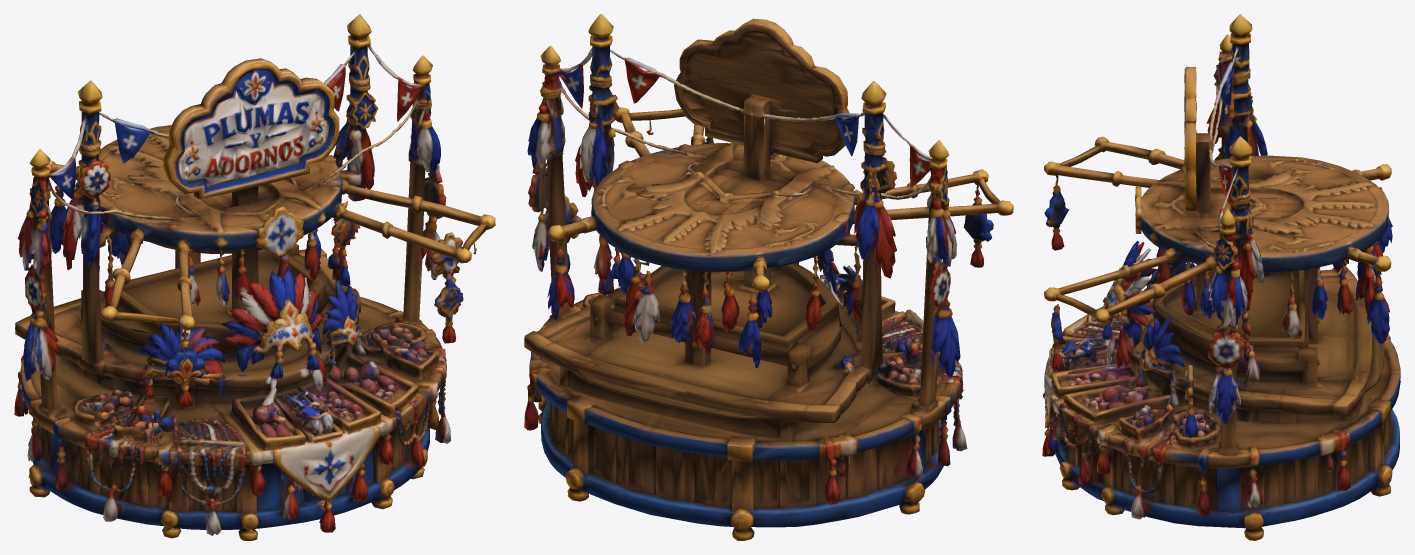
Rendered from plumas_y_adornos.glb.
The picture shows the model from 3 angles, left to right: view 1: azimuth 30°, elevation 25°; view 2: azimuth 150°, elevation 25°; view 3: azimuth 270°, elevation 25°; orthographic projection. The views are drawn at different scales.
Visible parts, largest first — view 1: plumas_y_adornos; view 2: plumas_y_adornos; view 3: plumas_y_adornos.
Part boxes in pixels (x1,y1,x2,y2): plumas_y_adornos: (14,14,495,540); plumas_y_adornos: (524,14,1013,540); plumas_y_adornos: (1042,14,1400,540).
Size of what is drawn, in the model's own units: 2.47 by 2.3 by 1.93.
1 material, 1 textured.
